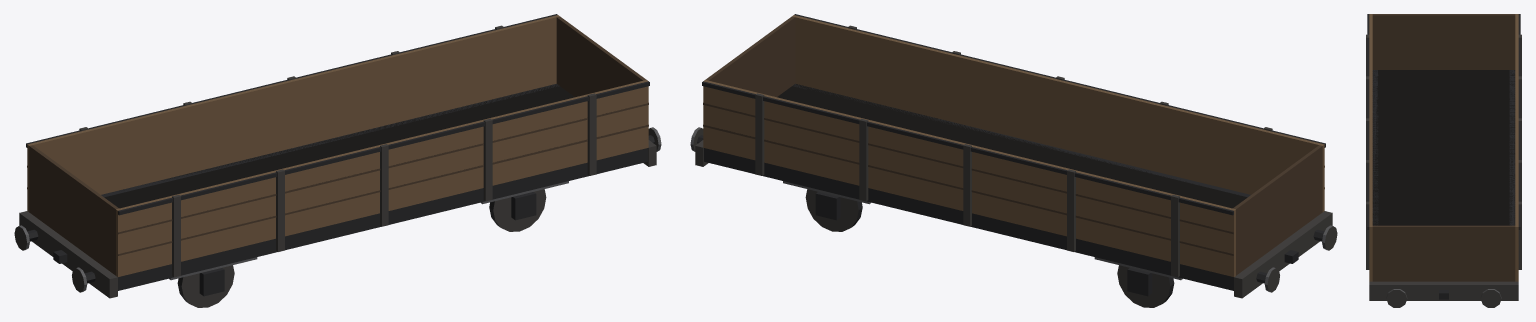
Rendered from wagon_open.glb.
3 renders of one model, left to right at view 1: azimuth 30°, elevation 25°; view 2: azimuth 150°, elevation 25°; view 3: azimuth 270°, elevation 25°, orthographic. The views are drawn at different scales.
Visible parts, largest first — view 1: wagon_open_LOD0; view 2: wagon_open_LOD0; view 3: wagon_open_LOD0.
Part boxes in pixels (x1=…): wagon_open_LOD0: x1=14, y1=14, x2=661, y2=307; wagon_open_LOD0: x1=690, y1=14, x2=1337, y2=307; wagon_open_LOD0: x1=1366, y1=14, x2=1521, y2=307.
Size of what is drawn, in the model's own units: 10 by 2.3 by 2.84.
1 material, 1 textured.
